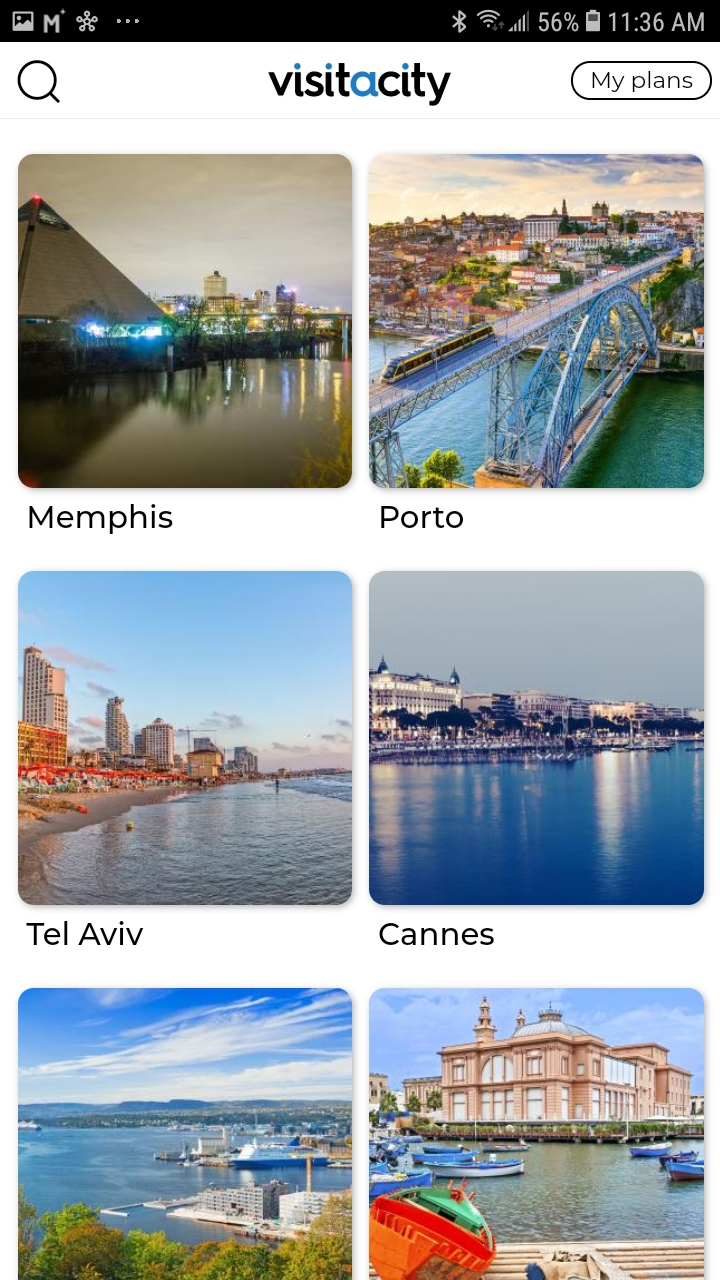Icon: (18, 60, 62, 105)
Image: (369, 571, 704, 906), (18, 571, 353, 906), (370, 154, 705, 489), (18, 154, 353, 489), (369, 988, 704, 1280), (19, 988, 353, 1280), (268, 63, 452, 108)
Text: (29, 503, 173, 535), (26, 921, 145, 946), (379, 923, 495, 946), (381, 505, 464, 529)
TextButton: (571, 61, 713, 101)
UpperTaskBar: (1, 1, 720, 43)
